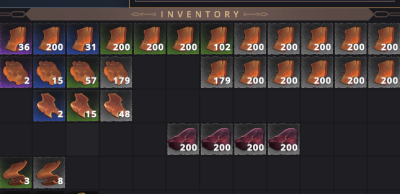flexible hide: (1, 158, 31, 187), (35, 158, 64, 187)
soft leather: (2, 57, 30, 88), (67, 58, 98, 86), (103, 58, 131, 86), (35, 58, 62, 87)
strong hide: (134, 23, 165, 54), (167, 24, 198, 54), (370, 57, 400, 88), (303, 57, 333, 87), (33, 24, 64, 53), (200, 24, 230, 53), (268, 24, 298, 53), (369, 24, 399, 53), (269, 57, 298, 87), (337, 57, 366, 87), (236, 23, 264, 54), (101, 24, 130, 53), (67, 25, 97, 53), (337, 23, 365, 52), (201, 58, 230, 86), (237, 58, 265, 86), (3, 24, 30, 53), (304, 24, 331, 53)
tough hide: (101, 91, 131, 121), (34, 91, 64, 120), (69, 91, 97, 121)
